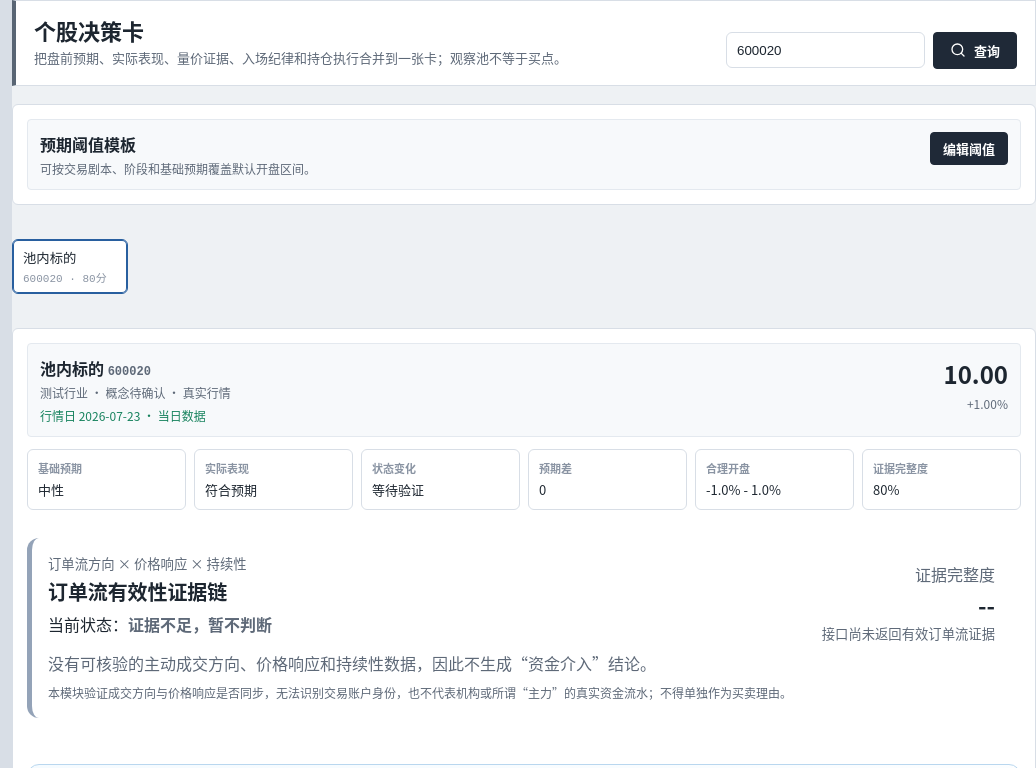
Test: 个股研判与自动观察池联动 › 手工查询进行中收到观察池换届事件时仍以手工查询结果为准
The width and height of the screenshot is (1036, 768).
Replace the text in the field with placeholder "输入股票代码" with "600099": coordinates (826, 50) [726,32,925,68]
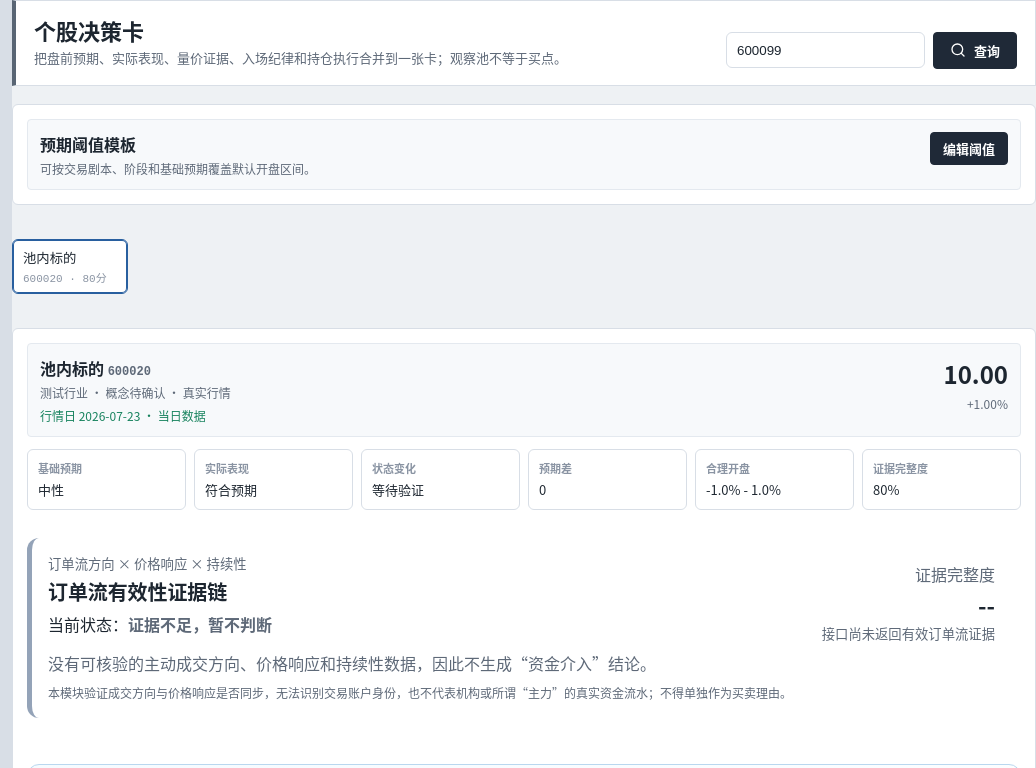
Click the button "查询": coordinates (975, 50) [933,32,1017,68]
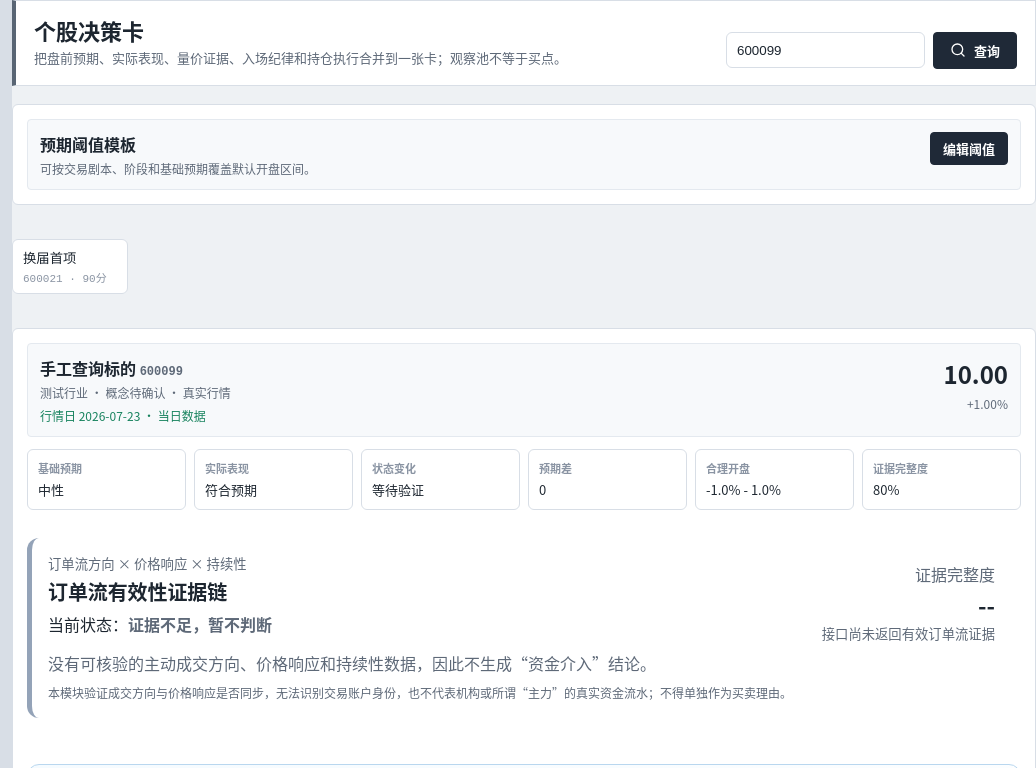
Result: the text "手工查询标的" is shown at [40,356,136,380]
